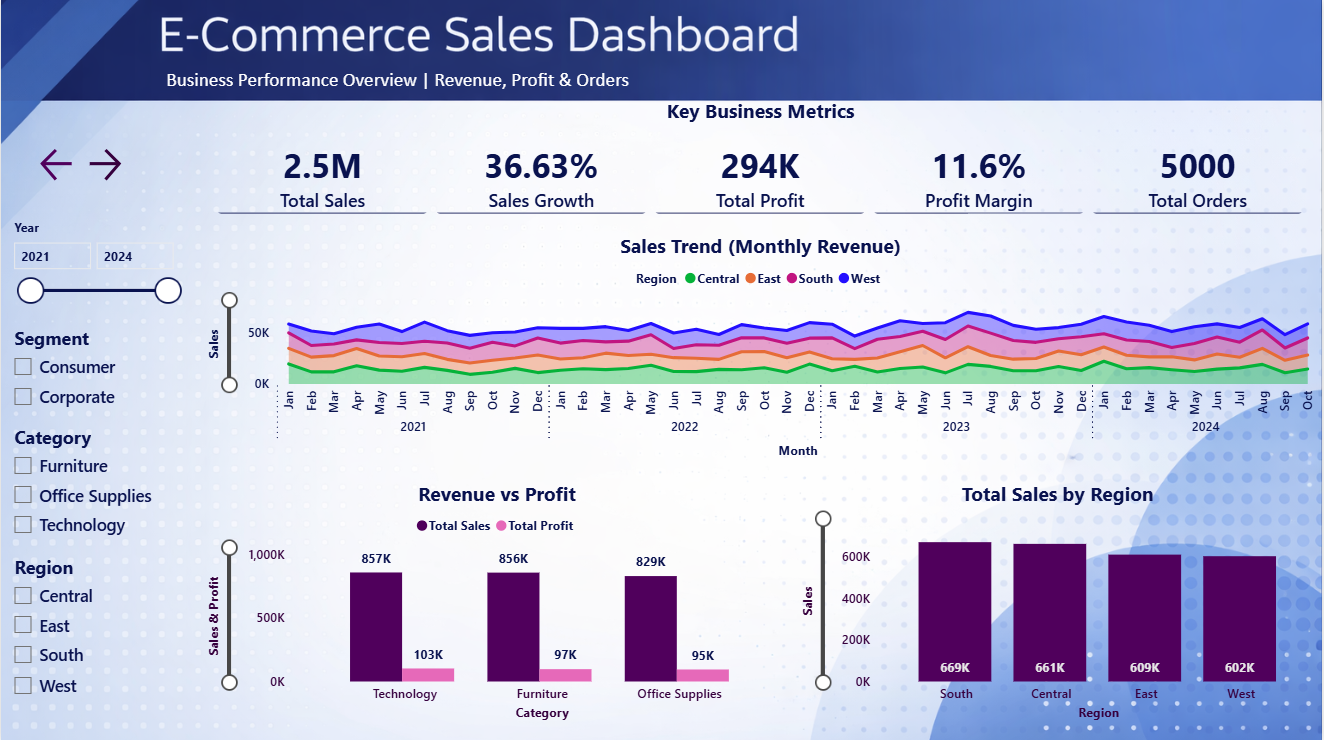

This screenshot's page, from the dashboard's own definition file:
{"tool":"powerbi","page":{"name":"Executive Overview","canvas":[1280,720],"ordinal":0},"visuals":[{"type":"cardVisual","title":"Key Business Metrics","fields":{"Data":["Measures_Table.Total Sales","Measures_Table.Sales Growth","Measures_Table.Total Profit","Measures_Table.Profit Margin %","Measures_Table.Total Orders 1"]},"box":[192.5,94.4,1087,130.7],"z":0},{"type":"slicer","fields":{"Values":["Dim_Region.Region"]},"box":[0,532.4,159.2,170.2],"z":1000},{"type":"stackedAreaChart","title":"Sales Trend (Monthly Revenue)","fields":{"Category":["Dim_Date.Year","Dim_Date.Month"],"Series":["Dim_Region.Region"],"Y":["Measures_Table.Total Sales"]},"box":[192.5,225.2,1087,223.9],"z":2000},{"type":"slicer","fields":{"Values":["Dim_Product.Category"]},"box":[0,407.5,159.2,129],"z":3000},{"type":"clusteredColumnChart","title":"Revenue vs Profit","fields":{"Category":["Dim_Product.Category"],"Y":["Measures_Table.Total Sales","Measures_Table.Total Profit"]},"box":[192.5,464.8,576.2,238.5],"z":4000},{"type":"slicer","fields":{"Values":["Dim_Customer.Segment"]},"box":[0,311.5,159.2,96.1],"z":5000},{"type":"columnChart","fields":{"Category":["Dim_Region.Region"],"Y":["Measures_Table.Total Sales"]},"box":[767.5,464.8,512,238.5],"z":6000},{"type":"slicer","fields":{"Values":["Dim_Date.Year"]},"box":[0,207,182.8,102.9],"z":7000},{"type":"textbox","box":[154.9,60.5,485.4,33.9],"z":8000},{"type":"actionButton","box":[79.9,139.6,55.8,40.6],"z":9000},{"type":"actionButton","box":[34.3,139.6,45.7,40.6],"z":10000}]}

Visuals, with their boxes in screenshot pixels (x1, y1, x2, y2), scaled from the page's 1280x720 canvas onto the 1324x740 screenshot:
"Key Business Metrics" cardVisual: [199,97,1323,231]
slicer - Dim_Region.Region: [0,547,165,722]
"Sales Trend (Monthly Revenue)" stackedAreaChart: [199,231,1323,462]
slicer - Dim_Product.Category: [0,419,165,551]
"Revenue vs Profit" clusteredColumnChart: [199,478,795,723]
slicer - Dim_Customer.Segment: [0,320,165,419]
columnChart - Dim_Region.Region x Measures_Table.Total Sales: [794,478,1323,723]
slicer - Dim_Date.Year: [0,213,189,319]
textbox: [160,62,662,97]
actionButton: [83,143,140,185]
actionButton: [35,143,83,185]
